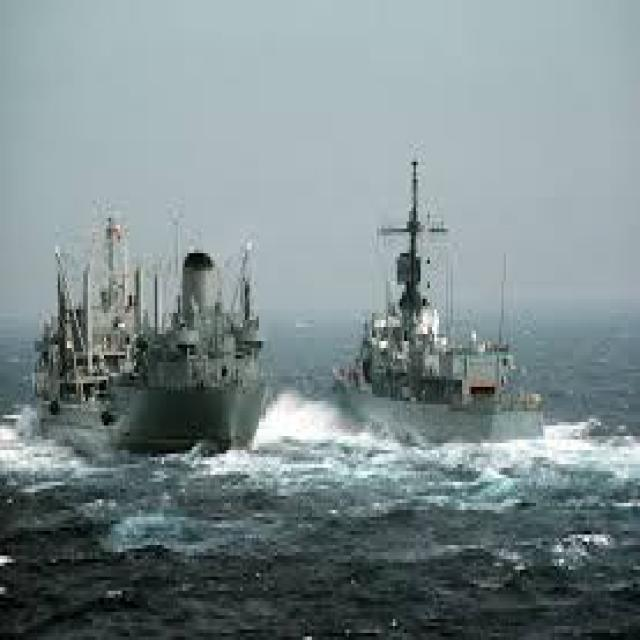navalvessels: (326, 145, 536, 469), (27, 195, 273, 466)
